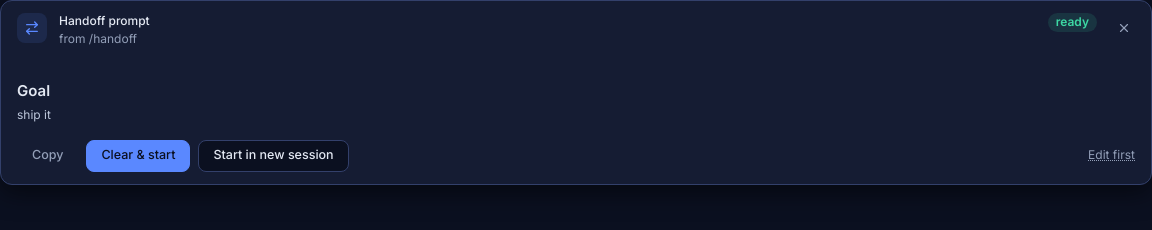
Test: HandoffCardView › a start that is refused says why and leaves the card actionable
The width and height of the screenshot is (1152, 230).
Click the button "Clear & start" at (138, 156), box [86, 140, 190, 172]
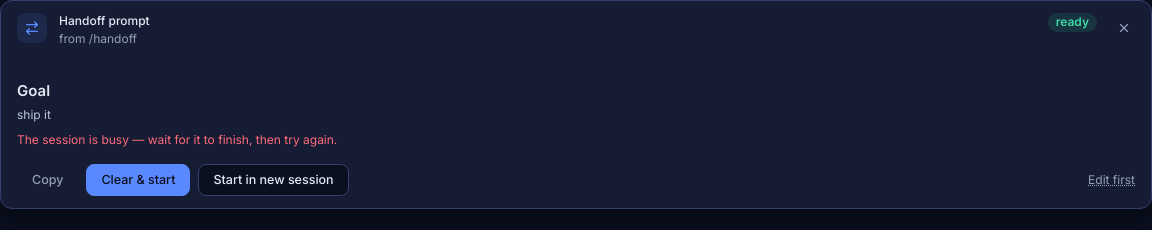
Expected: the button "Clear & start" is enabled, [86, 164, 190, 196]
Expected: the message with test id "handoff-notice" shows "busy", [17, 132, 337, 147]
